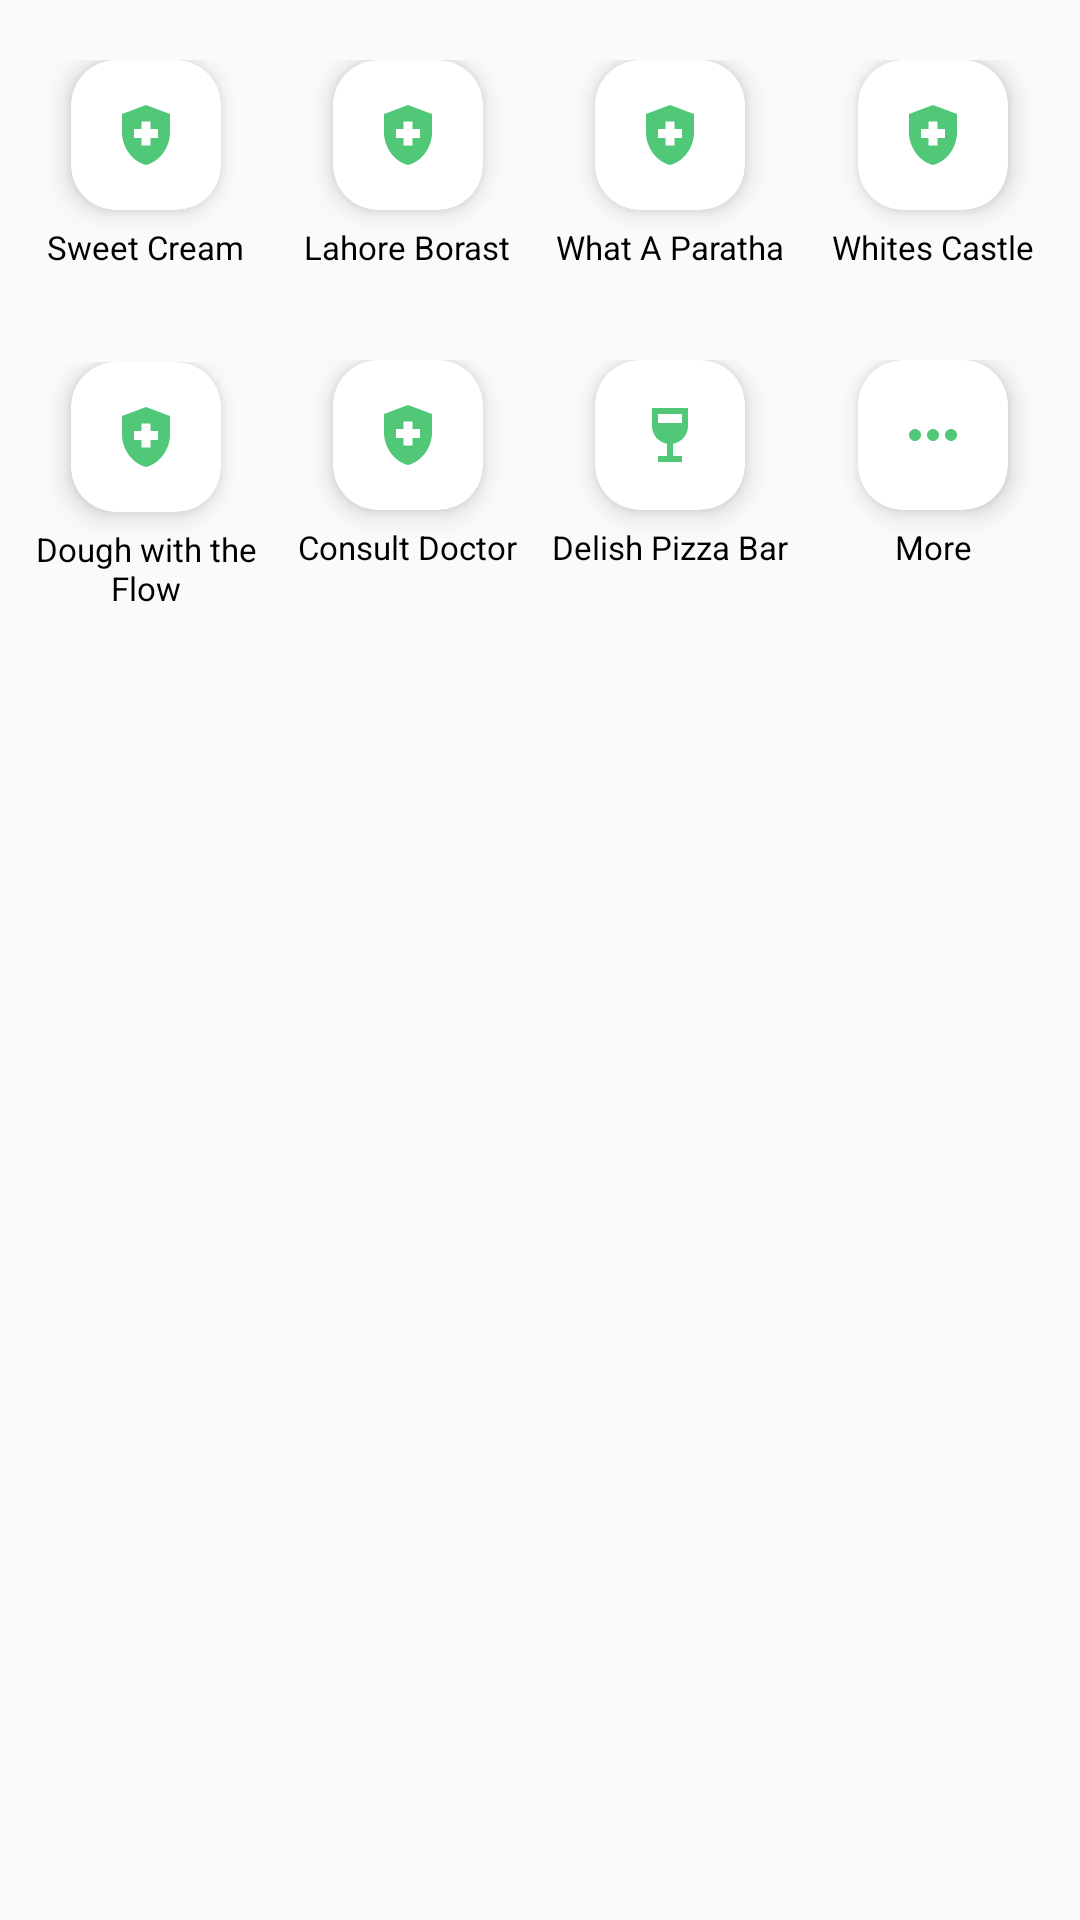

Where icons sit on this 1080 x 1920 app screen, as Rect(x1, y1, x2, y2):
home mwe insurance: Rect(122, 105, 170, 165), Rect(384, 105, 432, 165), Rect(646, 105, 694, 165), Rect(909, 105, 957, 165), Rect(384, 405, 432, 465), Rect(122, 407, 170, 467)
home mwe see all: Rect(909, 429, 957, 441)
